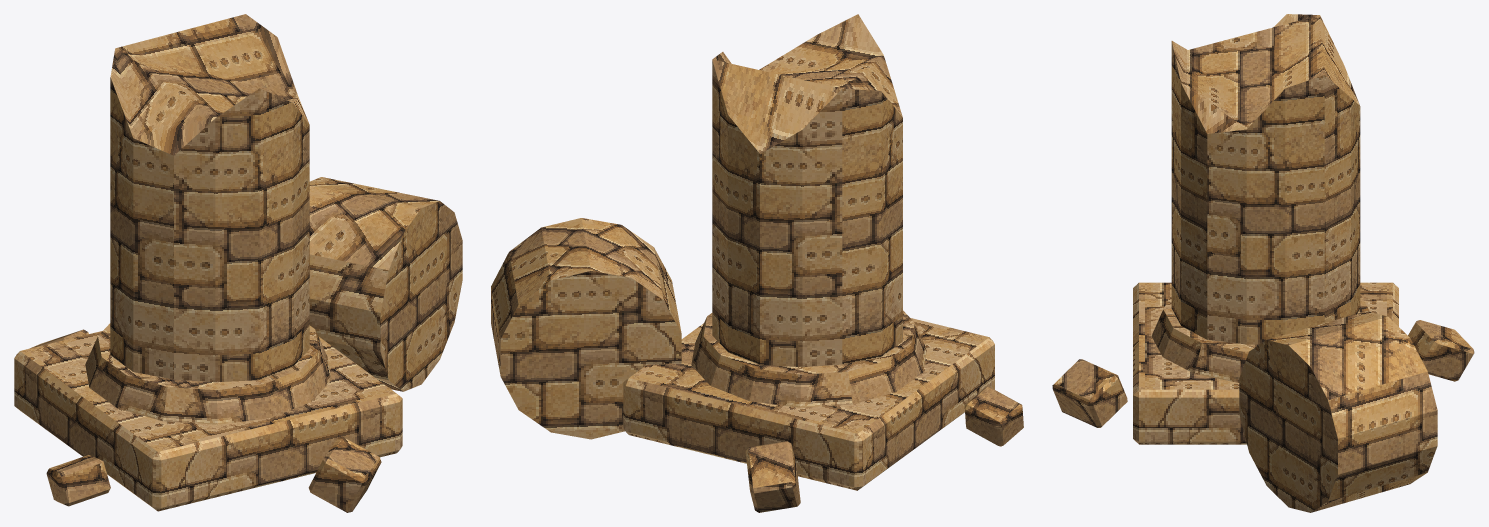
File: ruins_column.glb
The picture shows the model from 3 angles, left to right: view 1: azimuth 30°, elevation 25°; view 2: azimuth 150°, elevation 25°; view 3: azimuth 270°, elevation 25°; orthographic projection. The views are drawn at different scales.
Visible parts, largest first — view 1: Column; view 2: Column; view 3: Column.
Boxes of the visible parts, x1=… form: Column: x1=14, y1=14, x2=462, y2=512; Column: x1=491, y1=14, x2=1023, y2=512; Column: x1=1052, y1=14, x2=1474, y2=512.
Bounding box in the file's own units: 4.23 × 3.34 × 3.49.
Materials: 1 (1 with a texture image).
